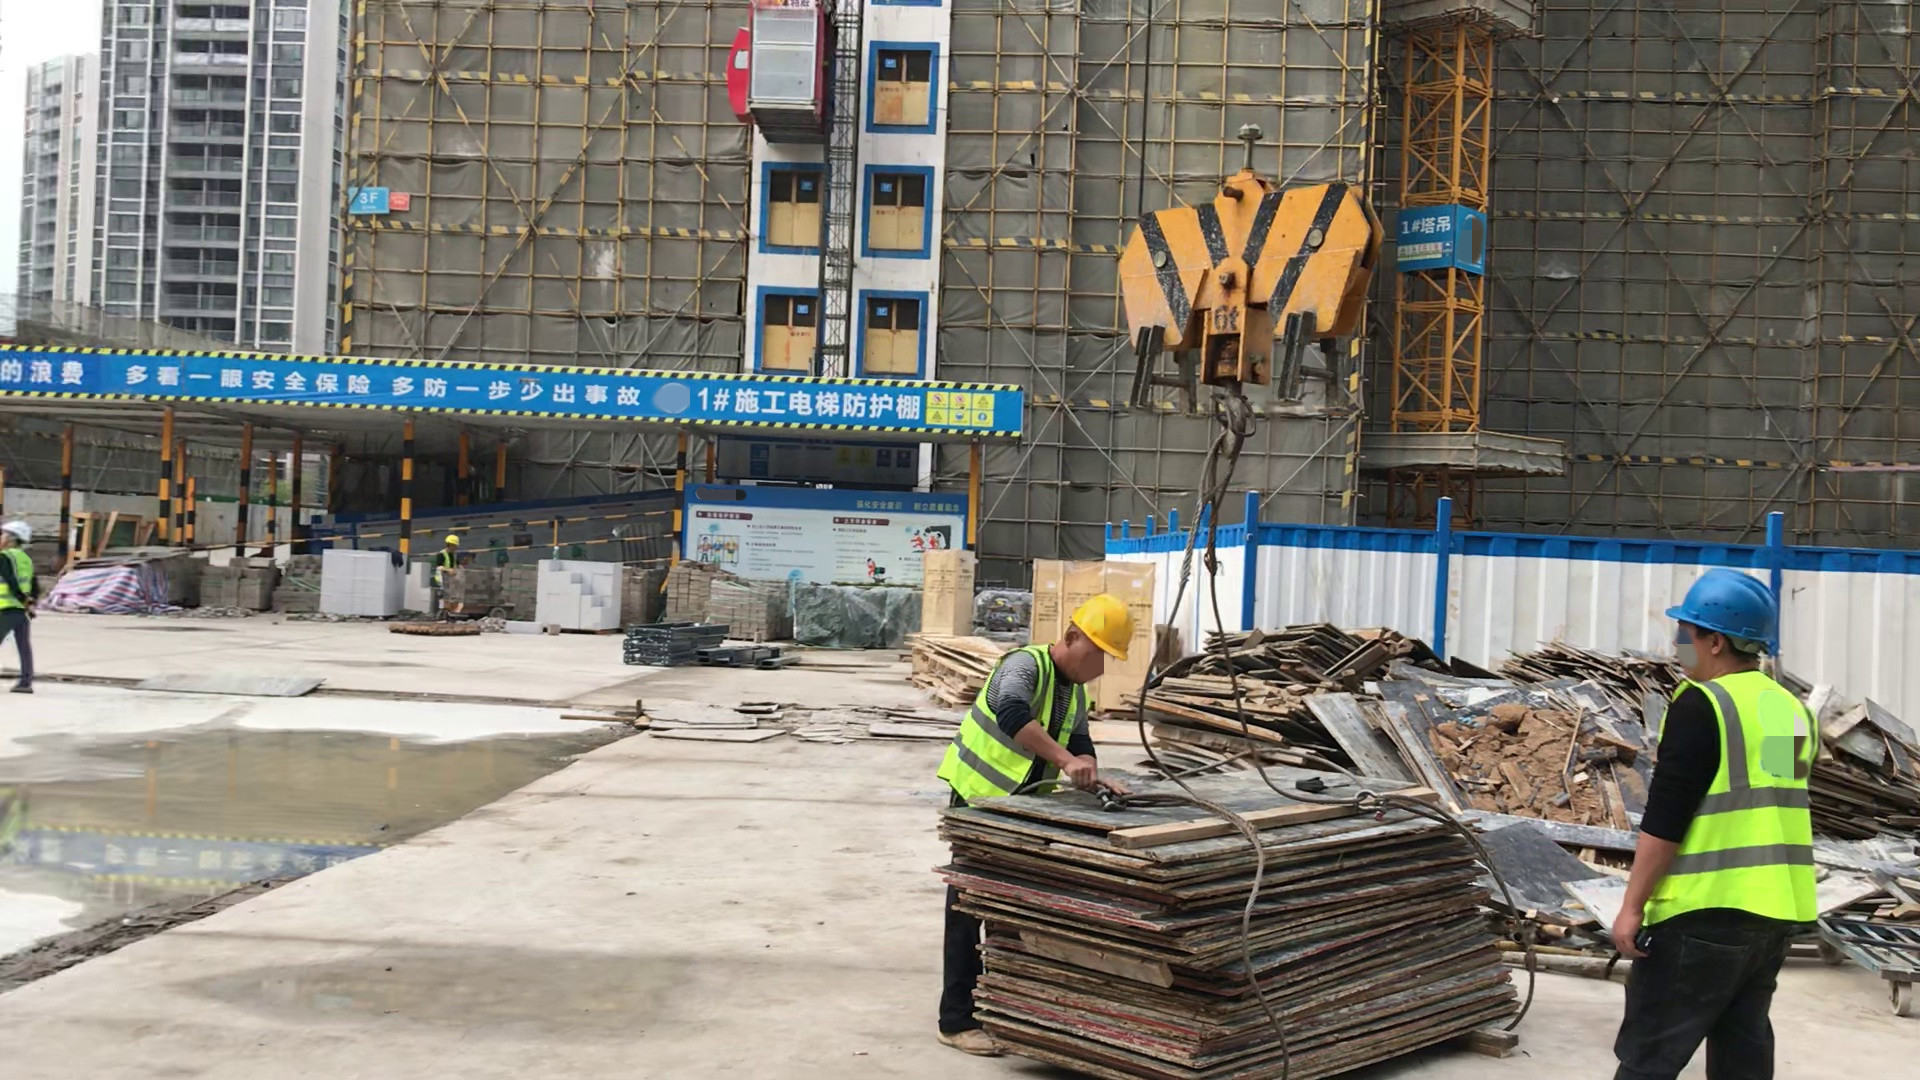board: (925, 762, 1525, 1076)
brick: (320, 548, 428, 620), (538, 559, 619, 629)
helmet: (1672, 569, 1779, 656), (1070, 596, 1134, 656), (4, 517, 29, 538), (443, 533, 459, 547)
hook: (1115, 168, 1381, 450)
person: (1610, 567, 1824, 1080), (934, 590, 1137, 1057), (1, 517, 45, 694), (431, 533, 459, 589)
slogan: (2, 349, 641, 410), (920, 385, 997, 428), (1396, 243, 1444, 259)
vest: (1637, 671, 1820, 942), (943, 639, 1089, 817), (3, 545, 33, 613), (438, 548, 456, 573)
